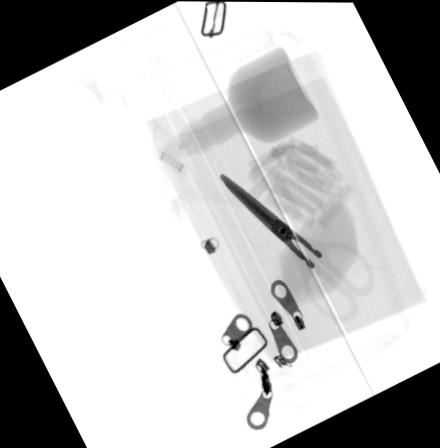Scissors: (218, 171, 374, 320)
